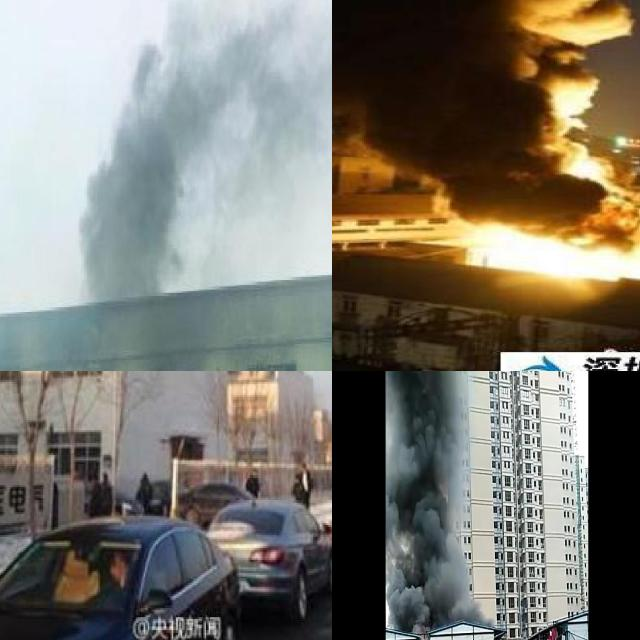fire: (452, 227, 640, 287)
smoke: (77, 0, 332, 293), (332, 0, 640, 237), (387, 371, 490, 632)
